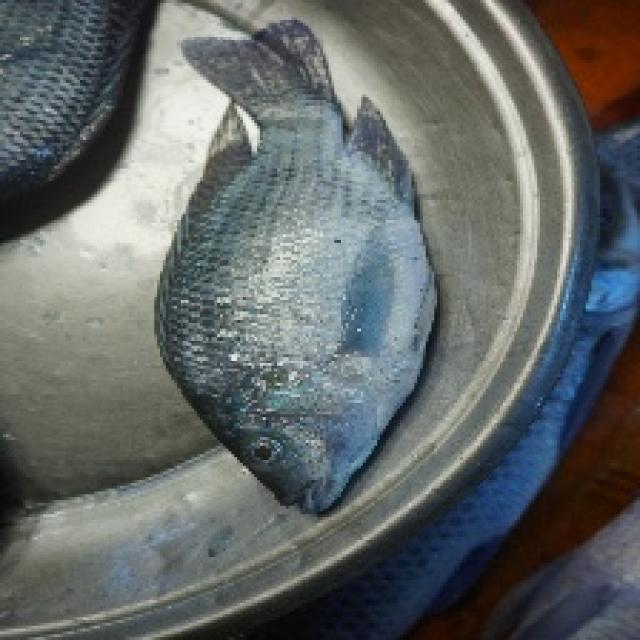Fresh: (178, 17, 445, 532)
